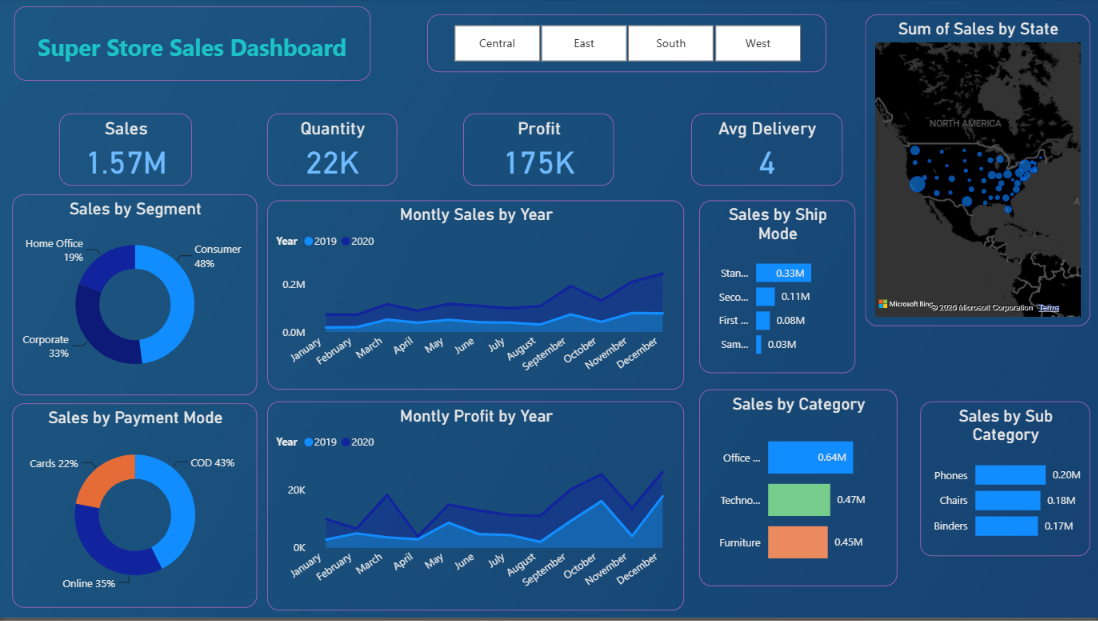

What the dashboard file says about the page in this screenshot:
{"tool":"powerbi","page":{"name":"Page 1","canvas":[1280,720],"ordinal":0},"visuals":[{"type":"clusteredBarChart","title":" Sales by Category","fields":{"Category":["Sheet1.Category"],"Y":["Sum(Sheet1.Sales)"]},"box":[814,454.7,230.2,229.1],"z":0},{"type":"clusteredBarChart","title":" Sales by Sub Category","fields":{"Category":["Sheet1.Sub-Category"],"Y":["Sum(Sheet1.Sales)"]},"box":[1070.9,468.6,197.7,180.2],"z":1000},{"type":"clusteredBarChart","title":" Sales by Ship Mode","fields":{"Category":["Sheet1.Ship Mode"],"Y":["Sum(Sheet1.Sales)"]},"box":[814,234.9,181.4,201.2],"z":2000},{"type":"stackedAreaChart","title":"Montly Sales by Year","fields":{"Category":["Sheet1.Order Date.Variation.Date Hierarchy.Month"],"Series":["Sheet1.Order Date.Variation.Date Hierarchy.Year"],"Y":["Sum(Sheet1.Sales)"]},"box":[311.6,234.9,484.9,219.8],"z":3000},{"type":"stackedAreaChart","title":"Montly Profit by Year","fields":{"Category":["Sheet1.Order Date.Variation.Date Hierarchy.Month"],"Series":["Sheet1.Order Date.Variation.Date Hierarchy.Year"],"Y":["Sum(Sheet1.Profit)"]},"box":[311.6,468.6,484.9,243],"z":4000},{"type":"map","fields":{"Category":["Sheet1.State"],"Size":["Sum(Sheet1.Sales)"]},"box":[1007,18.6,261.6,362.8],"z":5000},{"type":"donutChart","title":"Sales by Segment","fields":{"Category":["Sheet1.Segment"],"Y":["Sum(Sheet1.Sales)"]},"box":[15.1,228.1,285.1,233.9],"z":6000},{"type":"donutChart","title":"Sales by Payment Mode","fields":{"Category":["Sheet1.Payment Mode"],"Y":["Sum(Sheet1.Sales)"]},"box":[15.1,471.4,285.1,237.4],"z":7000},{"type":"slicer","fields":{"Values":["Sheet1.Region"]},"box":[497.7,18.6,464,67.4],"z":8000},{"type":"textbox","box":[17.5,9.3,414.3,86.1],"z":9000},{"type":"card","title":"Sales","fields":{"Values":["Sum(Sheet1.Sales)"]},"box":[69.8,133.7,154.7,83.7],"z":10000},{"type":"card","title":"Quantity","fields":{"Values":["Sum(Sheet1.Quantity)"]},"box":[311.6,133.7,151.2,83.7],"z":11000},{"type":"card","title":"Profit","fields":{"Values":["Sum(Sheet1.Profit)"]},"box":[539.5,133.7,175.6,83.7],"z":12000},{"type":"card","title":"Avg Delivery","fields":{"Values":["Avg(Sheet1.AvgDelivery)"]},"box":[804.7,133.7,175.7,83.8],"z":13000}]}

Visuals, with their boxes in screenshot pixels (x1, y1, x2, y2), scaled from the page's 1280x720 canvas onto the 1098x621 screenshot:
" Sales by Category" clusteredBarChart: {"x1": 698, "y1": 392, "x2": 896, "y2": 590}
" Sales by Sub Category" clusteredBarChart: {"x1": 919, "y1": 404, "x2": 1088, "y2": 560}
" Sales by Ship Mode" clusteredBarChart: {"x1": 698, "y1": 203, "x2": 854, "y2": 376}
"Montly Sales by Year" stackedAreaChart: {"x1": 267, "y1": 203, "x2": 683, "y2": 392}
"Montly Profit by Year" stackedAreaChart: {"x1": 267, "y1": 404, "x2": 683, "y2": 614}
map - Sheet1.State x Sum(Sheet1.Sales): {"x1": 864, "y1": 16, "x2": 1088, "y2": 329}
"Sales by Segment" donutChart: {"x1": 13, "y1": 197, "x2": 258, "y2": 398}
"Sales by Payment Mode" donutChart: {"x1": 13, "y1": 407, "x2": 258, "y2": 611}
slicer - Sheet1.Region: {"x1": 427, "y1": 16, "x2": 825, "y2": 74}
textbox: {"x1": 15, "y1": 8, "x2": 370, "y2": 82}
"Sales" card: {"x1": 60, "y1": 115, "x2": 193, "y2": 188}
"Quantity" card: {"x1": 267, "y1": 115, "x2": 397, "y2": 188}
"Profit" card: {"x1": 463, "y1": 115, "x2": 613, "y2": 188}
"Avg Delivery" card: {"x1": 690, "y1": 115, "x2": 841, "y2": 188}
